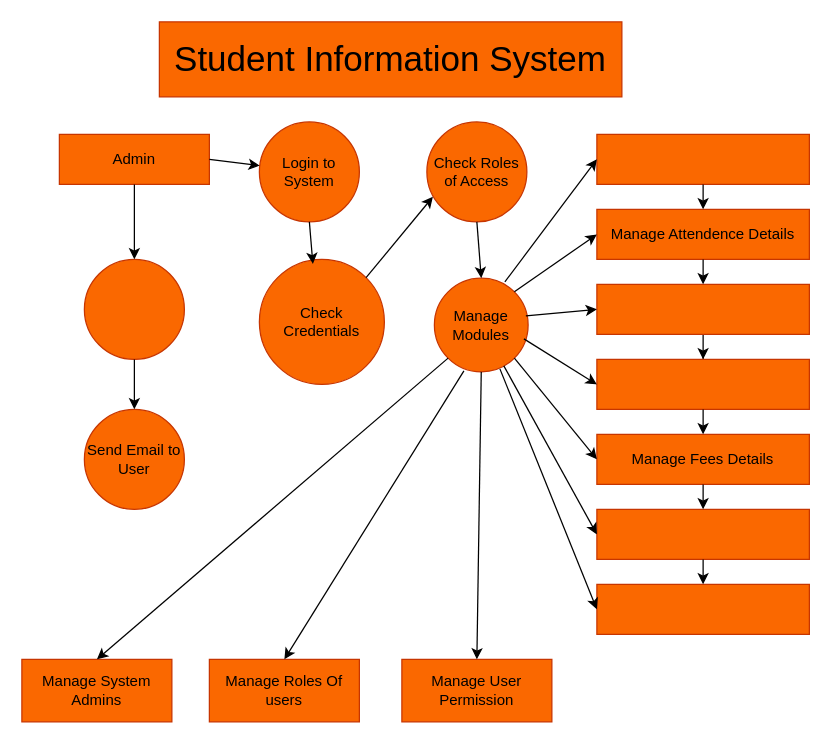
Some shapes in this 831 by 744 pixel diagram are drawn without their labels. The shapes that lost their labels are listed below. From the top down, each one's centre as x and y in pixels, then its label:
At pixel 702 158: "Manage Timetable Details".
At pixel 133 308: "Forgot Password".
At pixel 702 308: "Manage class Details".
At pixel 702 383: "Manage Student Details".
At pixel 702 533: "Manage Teachers Profiles".
At pixel 702 608: "Manage Report".
